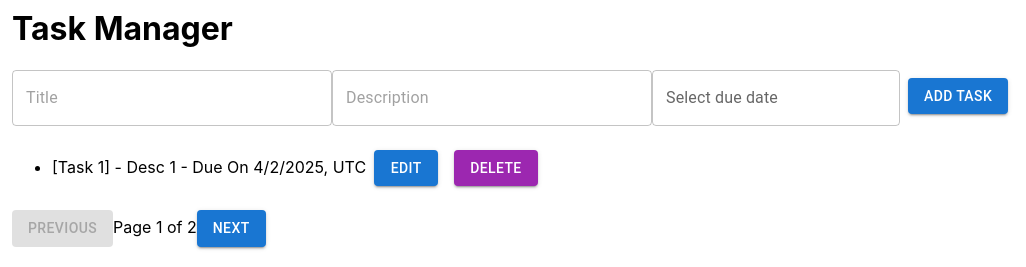
it: App Component › handles pagination navigation
Expected: the text "Page 1 of 2" is shown, [113,217,197,237]
# Navigate to next page
Click the button "Next": (231, 229) [197,210,266,247]
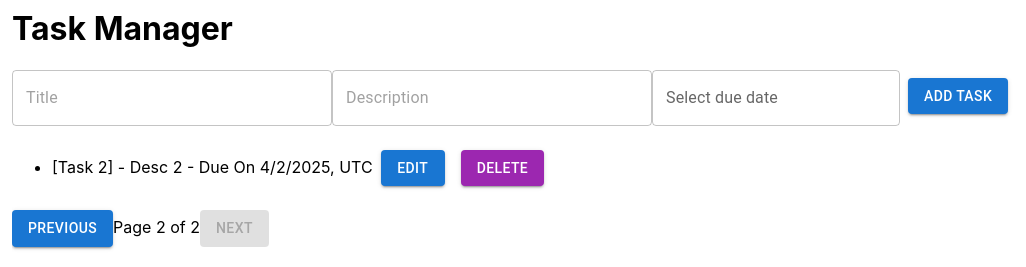
Result: the text "Page 2 of 2" is shown at [113,217,200,237]
